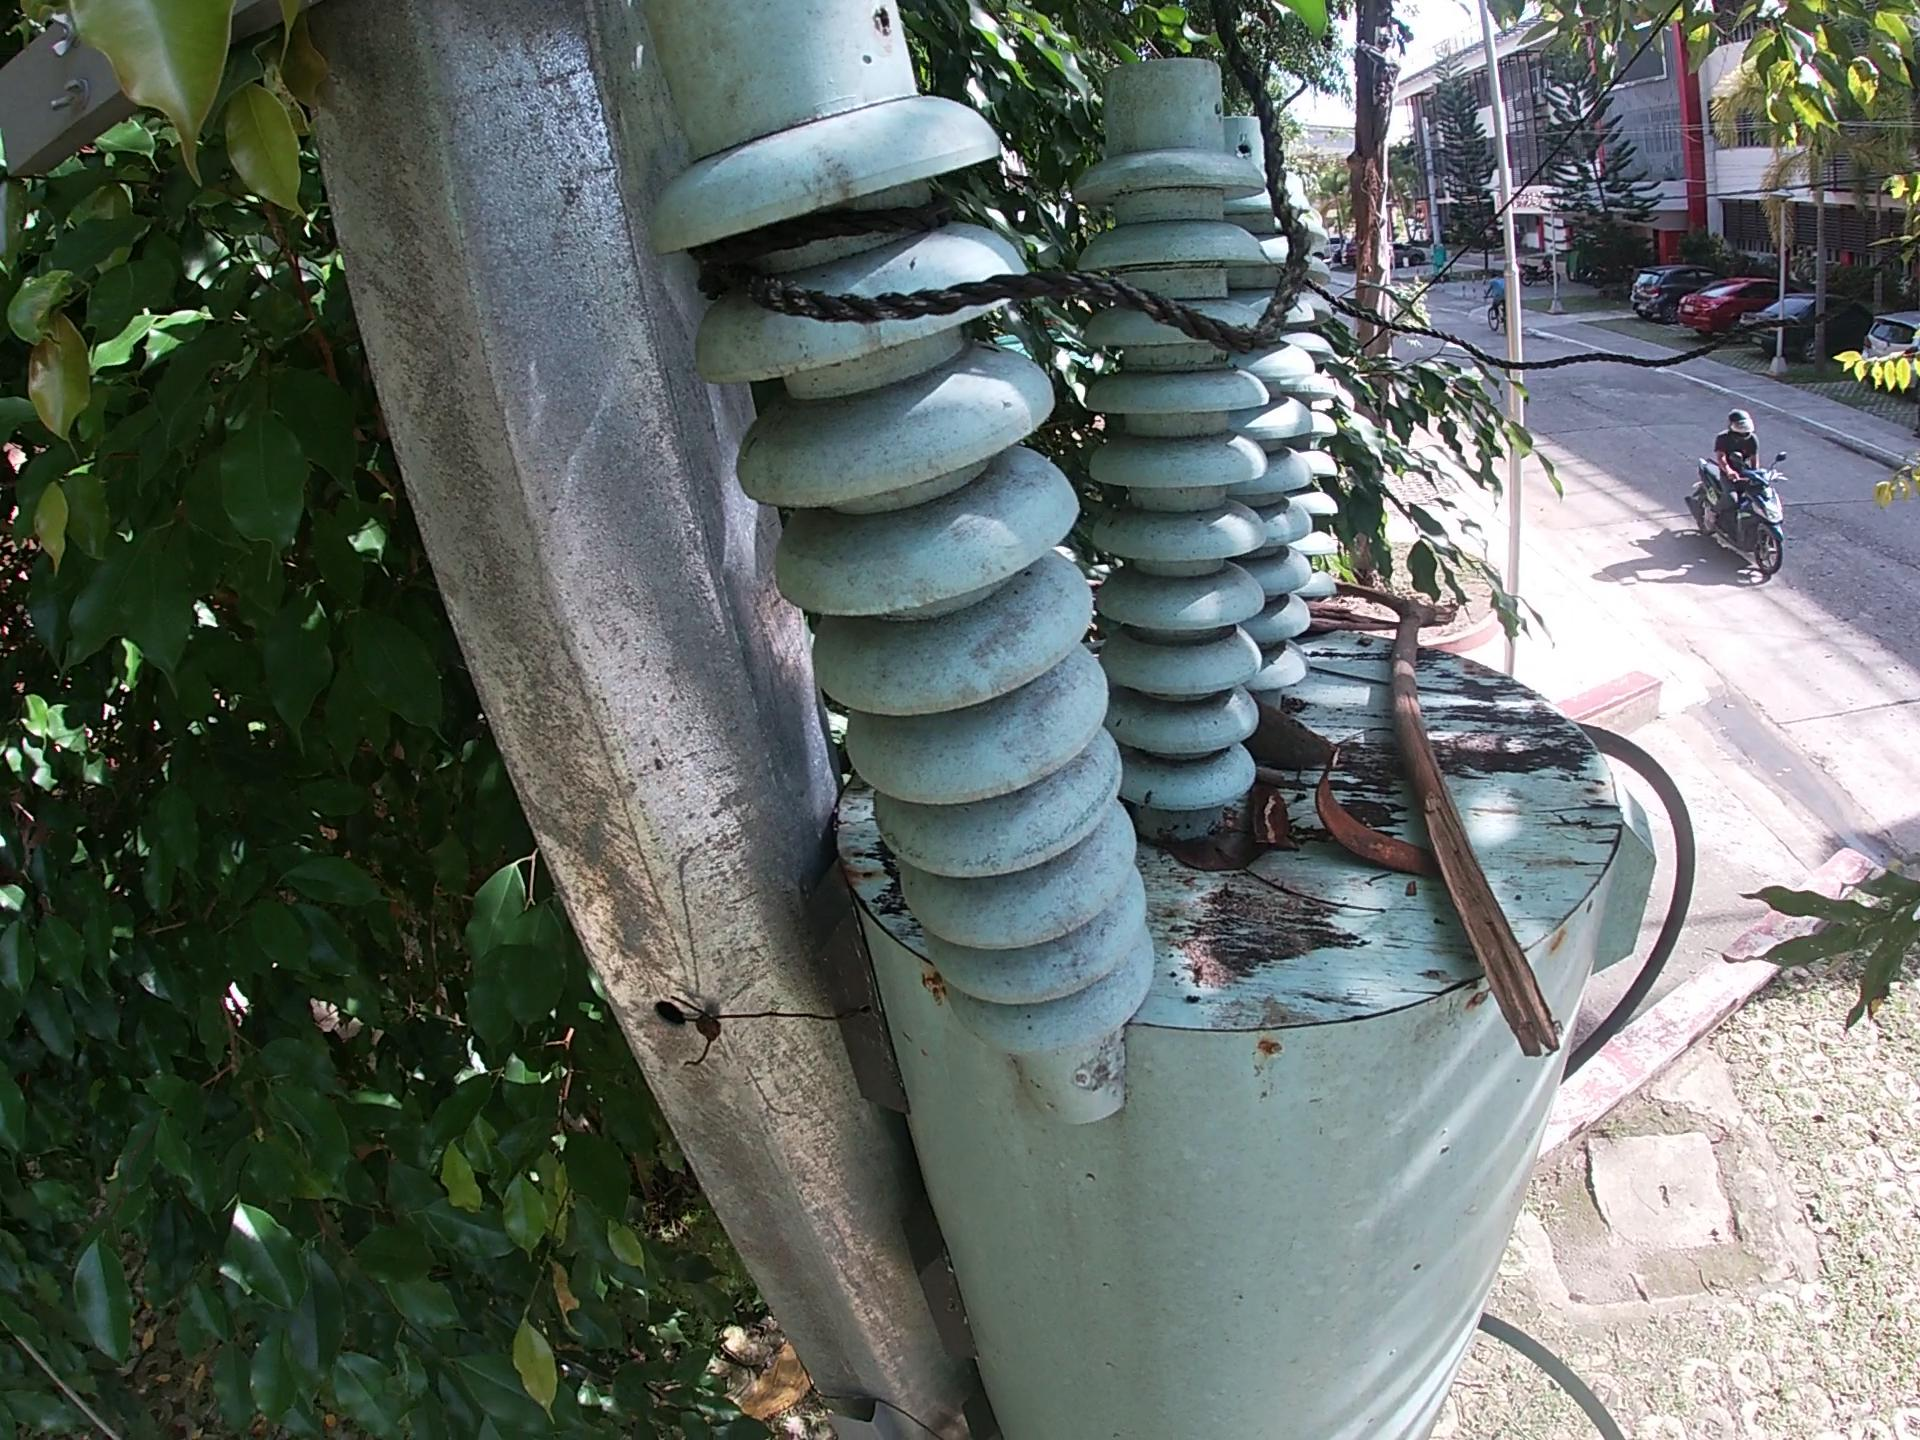leaf: (1160, 839, 1247, 898)
mahogany fruit: (1321, 771, 1438, 906), (1262, 709, 1346, 771)
tree branch: (1338, 588, 1613, 1092), (1302, 641, 1507, 722), (1247, 871, 1411, 936), (1305, 605, 1395, 650), (1255, 796, 1308, 871), (1255, 761, 1293, 793), (1075, 566, 1098, 594)
